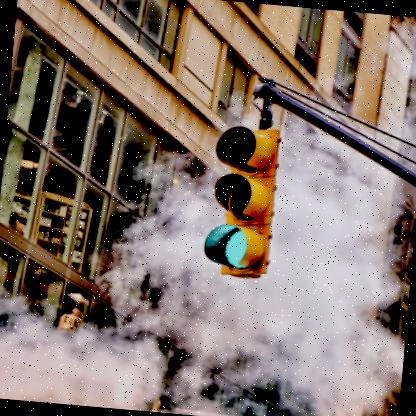trafficlight: (200, 120, 285, 280)
